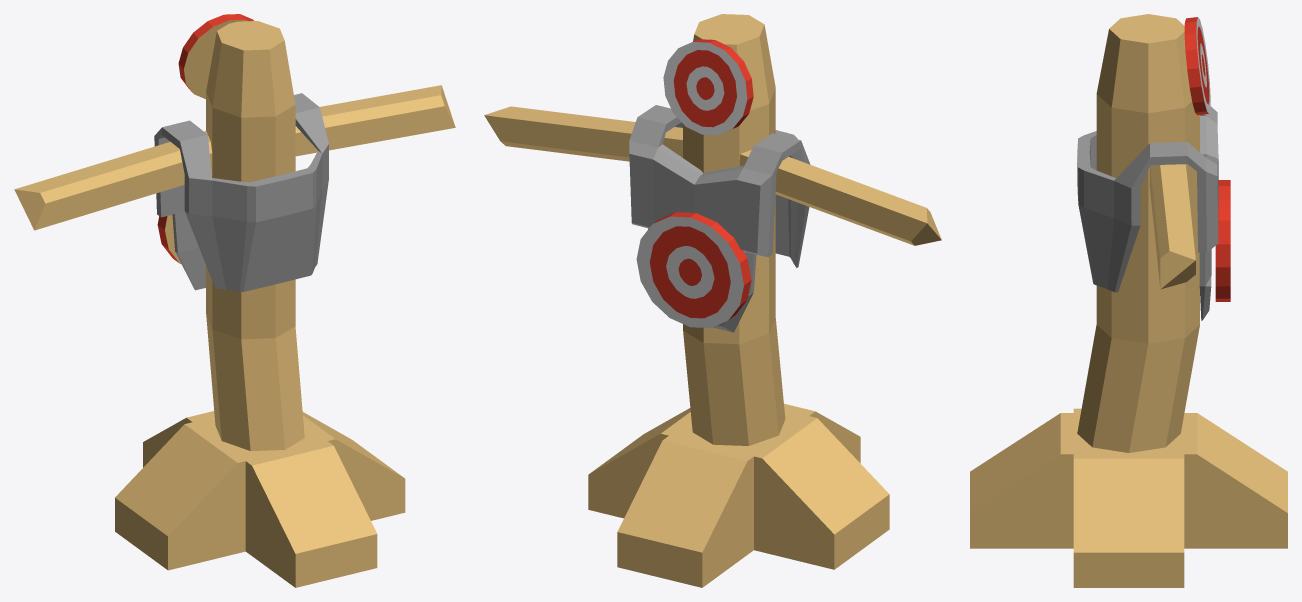
Rendered from Training Dummy.fbx.
The picture shows the model from 3 angles, left to right: view 1: azimuth 30°, elevation 25°; view 2: azimuth 150°, elevation 25°; view 3: azimuth 270°, elevation 25°; orthographic projection. The views are drawn at different scales.
Parts seen in each view (by area): view 1: Cube; view 2: Cube; view 3: Cube.
Boxes of the visible parts, x1,y1,x2,y2 form: Cube: (14,14,455,587); Cube: (484,14,941,587); Cube: (970,14,1287,587).
Size of the model in its own units: 229 by 248 by 141.
